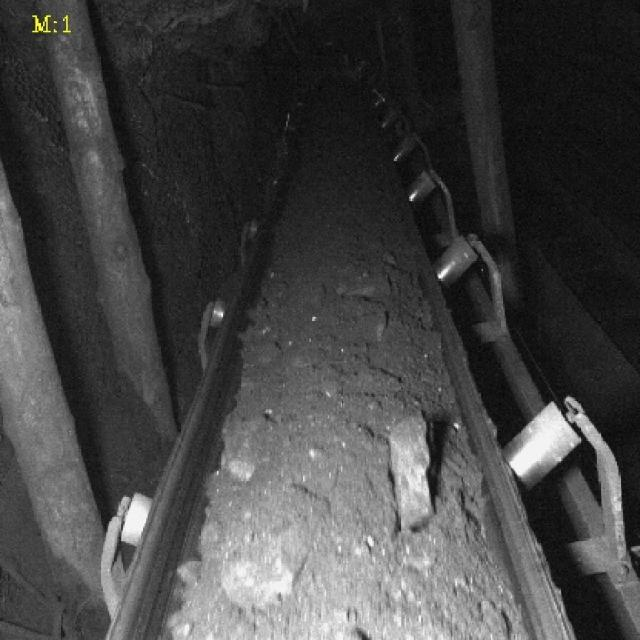large_sized_coal: (209, 488, 317, 606), (386, 417, 436, 538), (228, 411, 278, 480)
